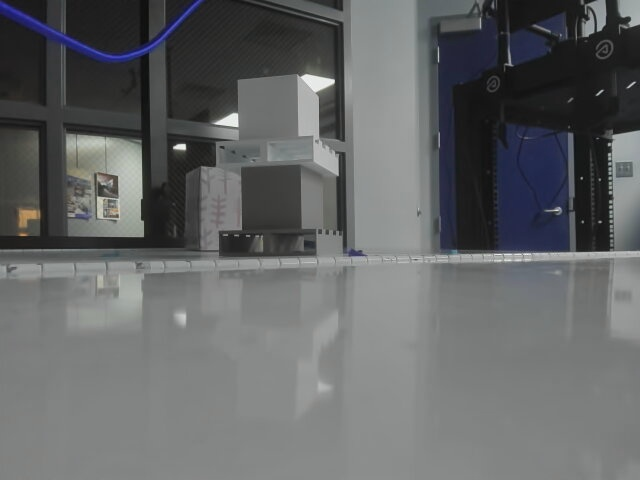grey pallet: (193, 156, 356, 261)
white pallet: (203, 70, 352, 182)
